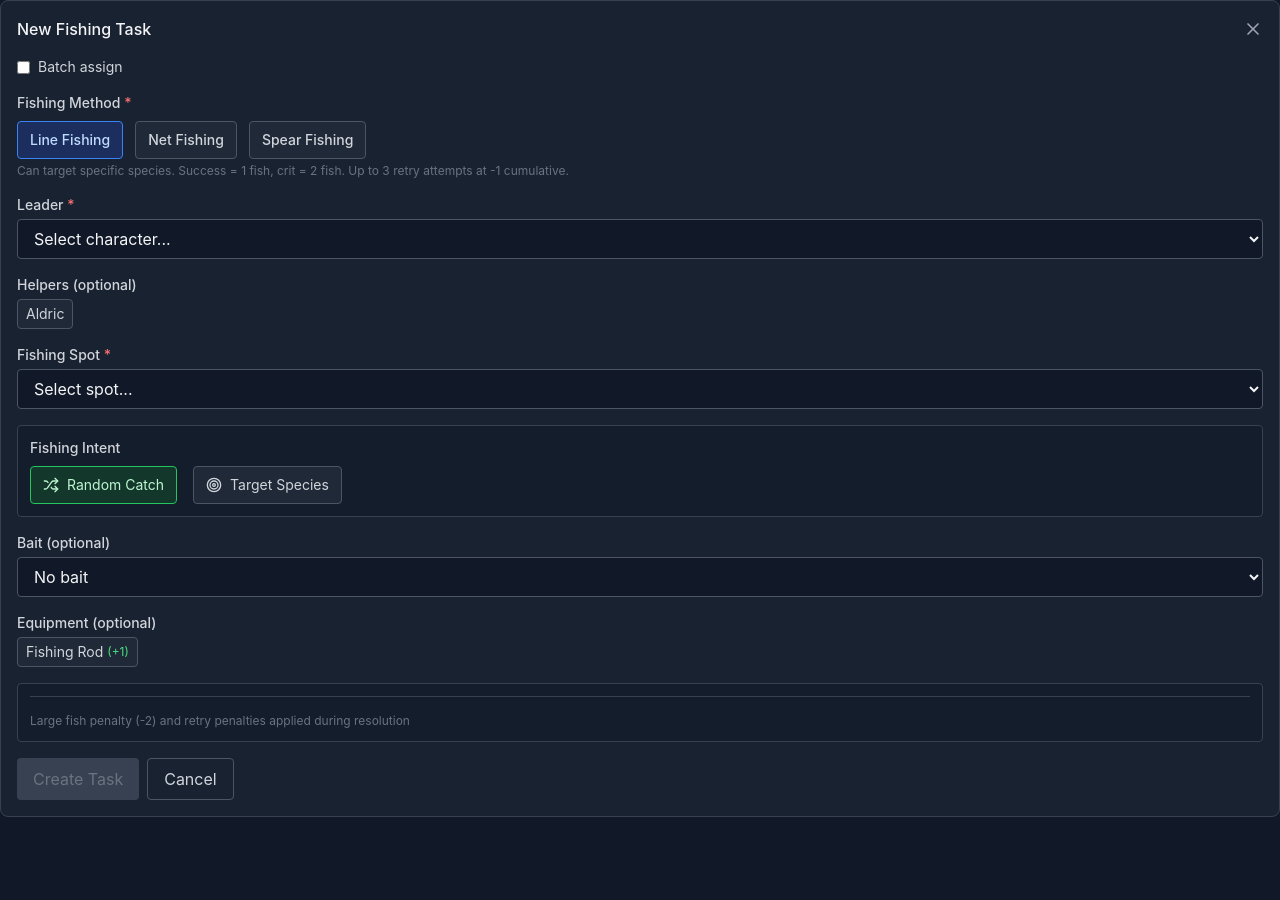
Scenario: FishingTaskForm › character availability › shows no available helpers message when only one character exists
// Select the only character as leader
Select "Aldric" in the dropdown with test id "leader-select" at coordinates (640, 239), box [17, 219, 1263, 259]
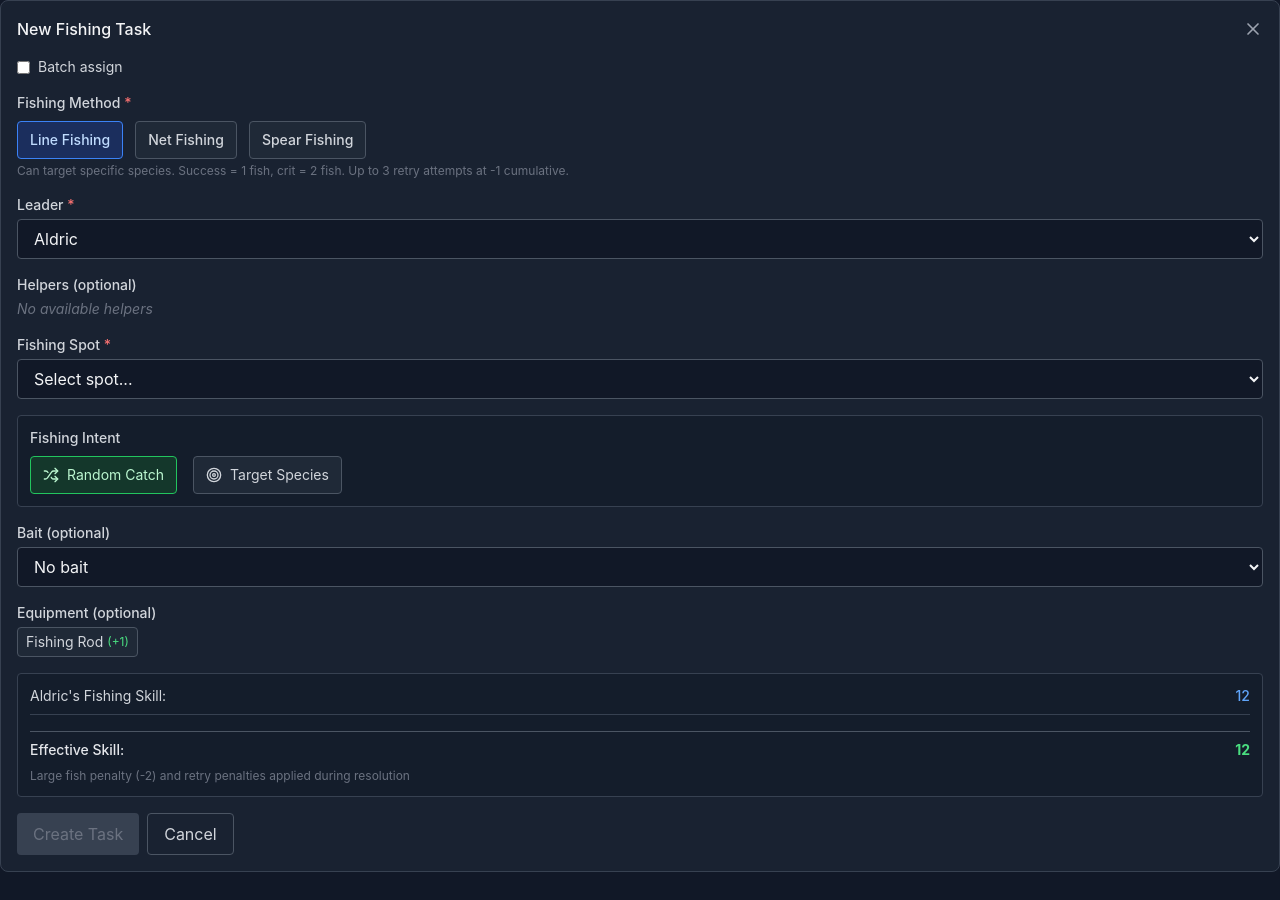
Result: the text "No available helpers" is shown at [17, 300, 153, 317]
